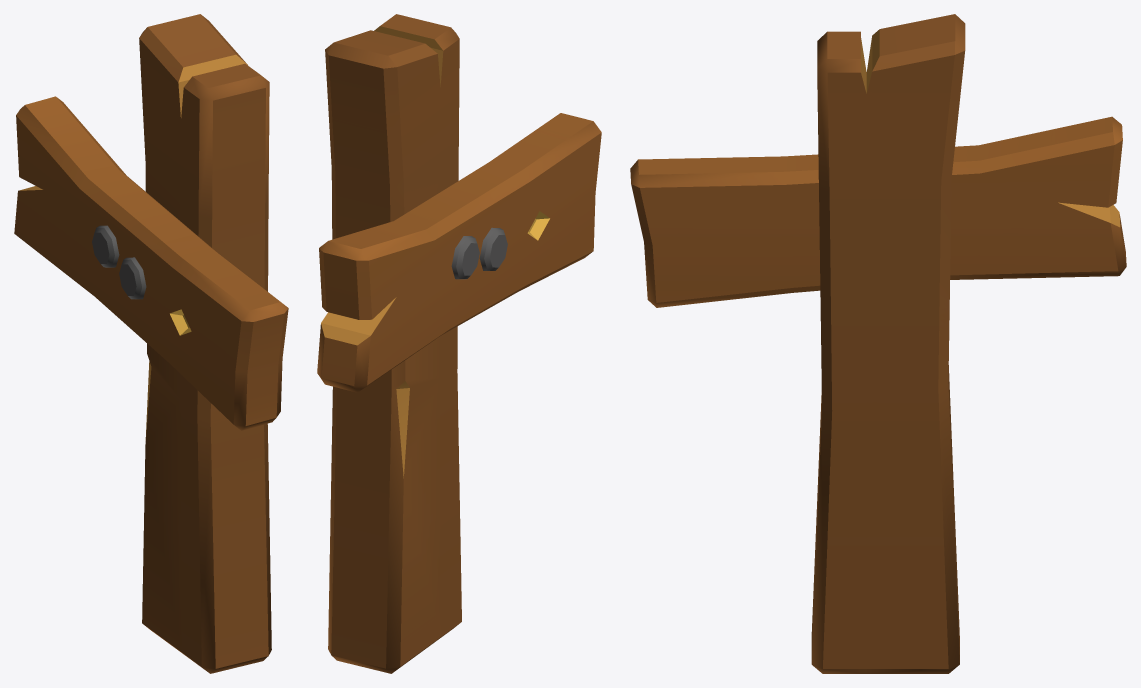
The model's file is Cross_3_3.obj.
3 views of the same model, side by side, from view 1: azimuth 30°, elevation 25°; view 2: azimuth 150°, elevation 25°; view 3: azimuth 270°, elevation 25° (orthographic). The views are drawn at different scales.
Visible parts, largest first — view 1: Cross_3_3; view 2: Cross_3_3; view 3: Cross_3_3.
Part boxes in pixels (bbox=[...]): Cross_3_3: bbox=[14, 14, 288, 673]; Cross_3_3: bbox=[317, 14, 601, 673]; Cross_3_3: bbox=[630, 14, 1126, 673].
Size of the model in its own units: 0.2142 by 0.9854 by 0.7006.
